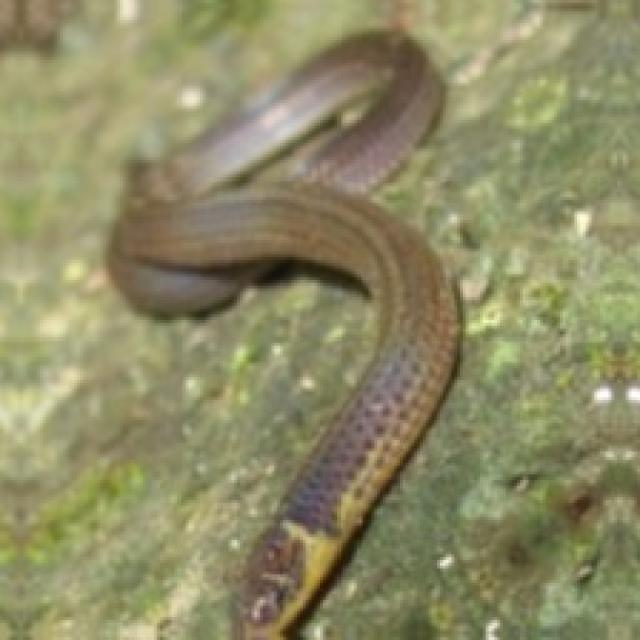gervais worm snake: (109, 31, 460, 637)
